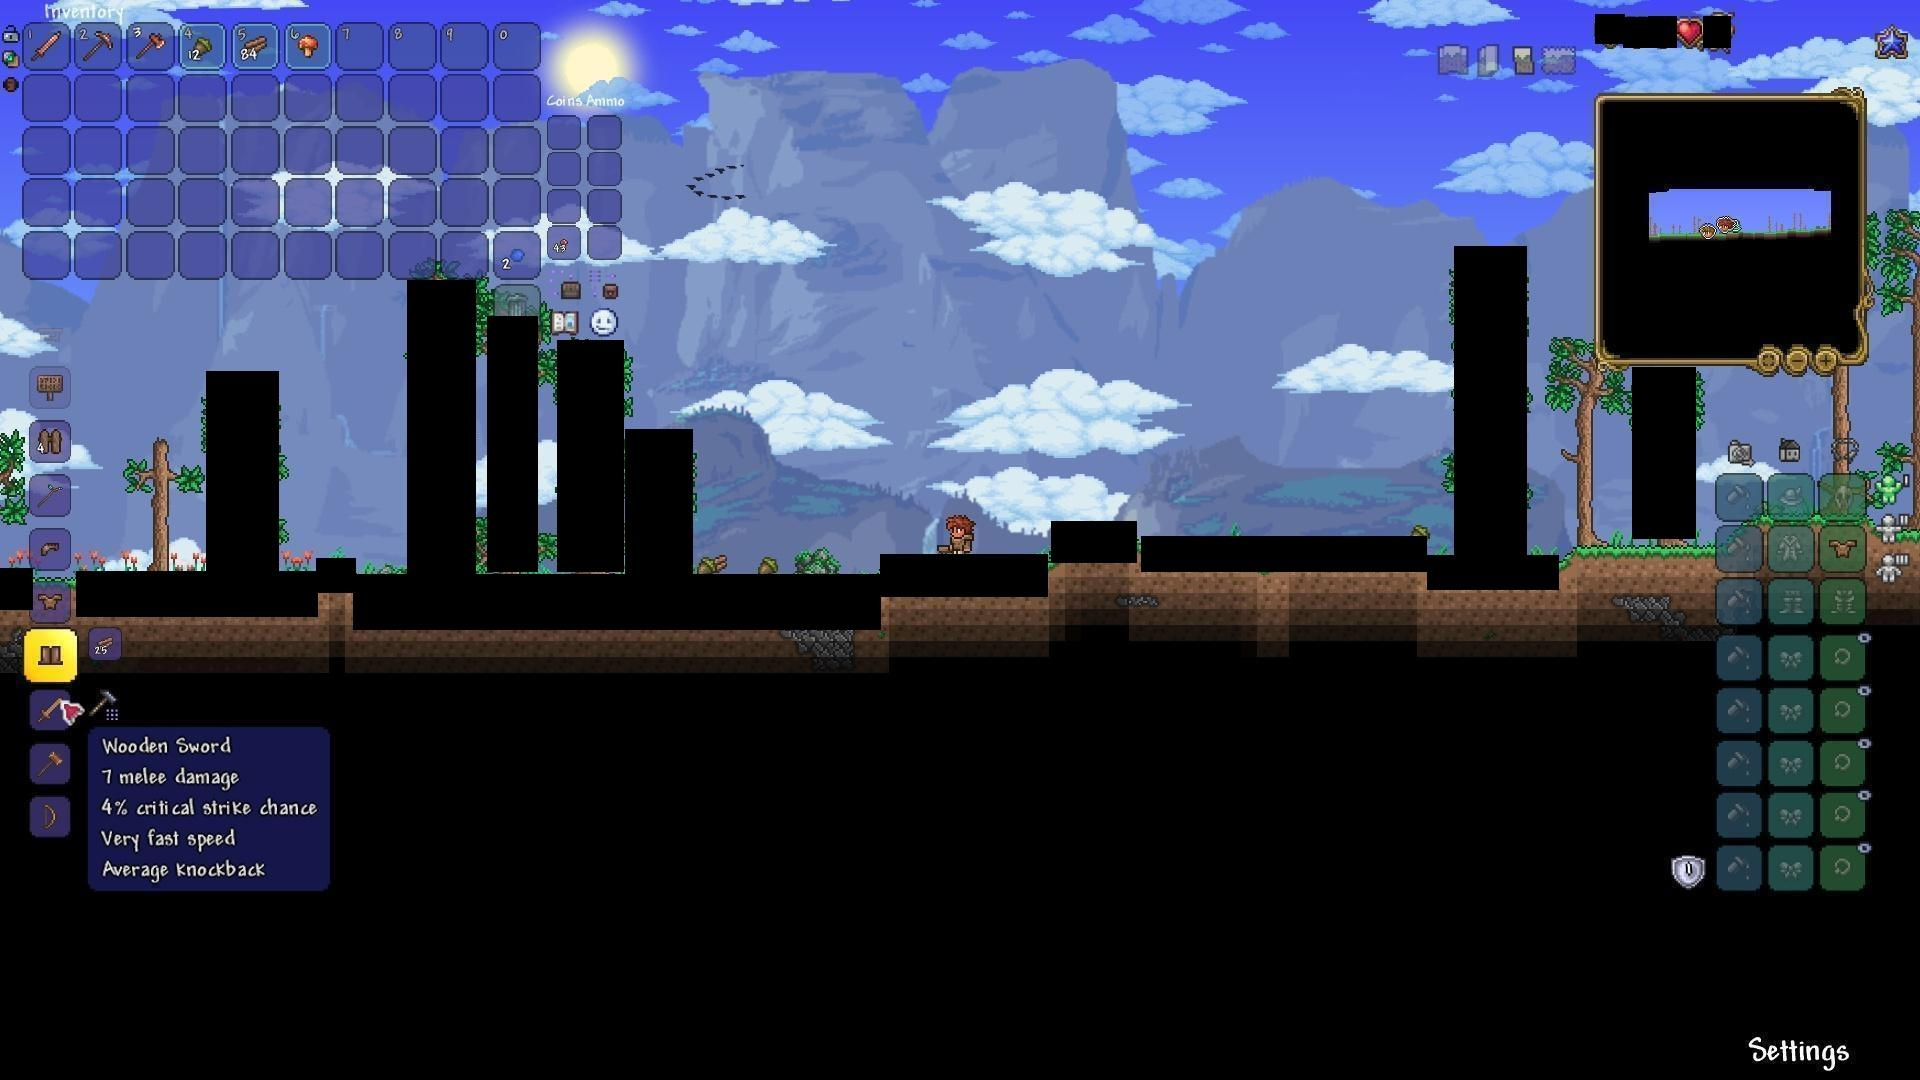breastplate: (37, 591, 65, 615), (1830, 538, 1858, 560)
dirt: (1564, 541, 1716, 585)
heart: (1676, 17, 1704, 47)
helmet: (38, 537, 62, 560)
legs: (37, 642, 67, 665)
tree: (1548, 343, 1607, 537), (131, 433, 179, 570)
wood: (239, 29, 272, 59), (90, 632, 123, 661), (707, 553, 728, 580)
